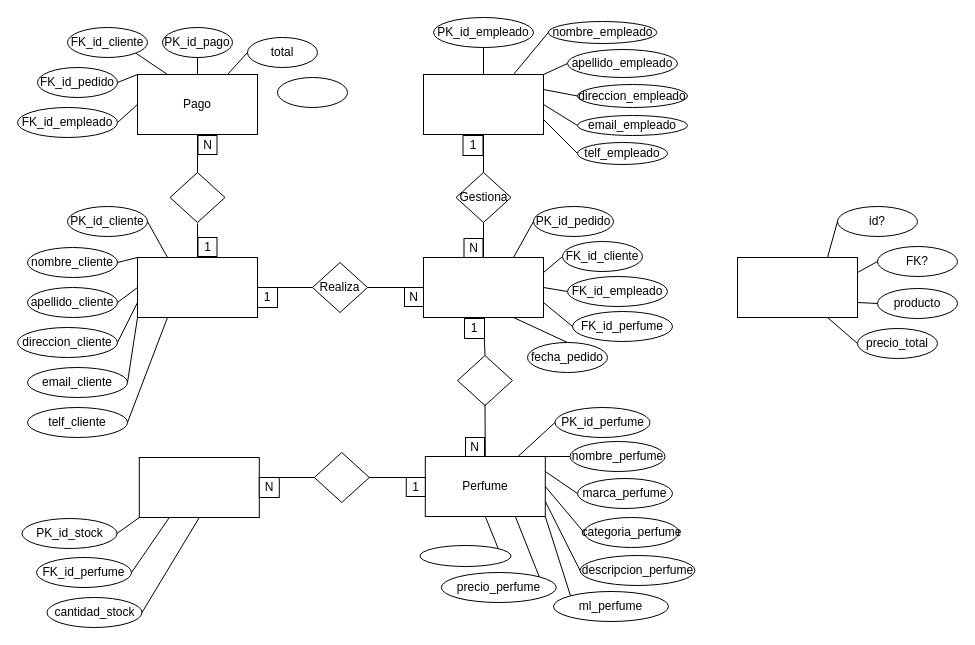
This 975x645 diagram has some shape labels left out. The shapes that lost their labels are listed below. From the top down, each one's centre as x and y in pixels, then its label:
At pixel 312 92: "forma_pago".
At pixel 483 104: "Empleado".
At pixel 197 197: "Abona".
At pixel 197 287: "Cliente".
At pixel 483 287: "Pedido".
At pixel 797 287: "Linea_pedido".
At pixel 484 380: "Solicita".
At pixel 198 487: "Stock".
At pixel 341 477: "Hay".
At pixel 465 555: "FK_id_stock".
